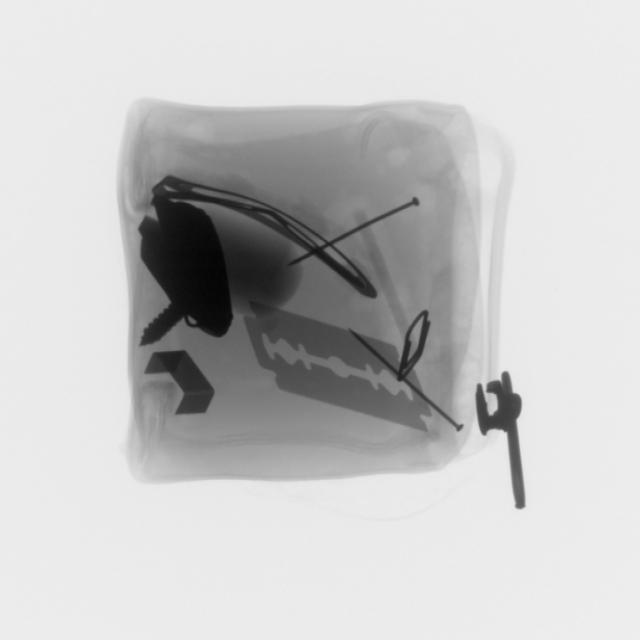BLADE: (237, 293, 448, 440)
